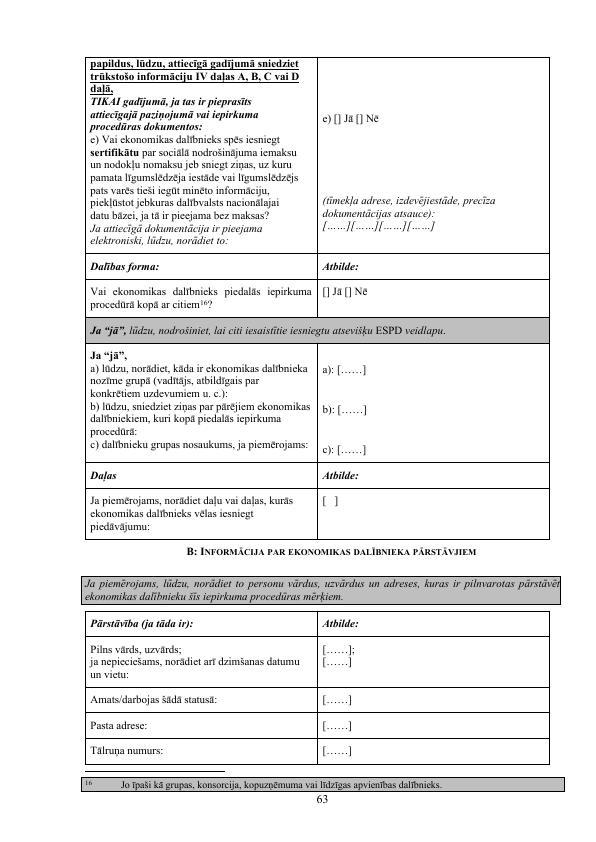table: (80, 54, 555, 542), (77, 572, 575, 801)
text: (184, 542, 477, 561)
